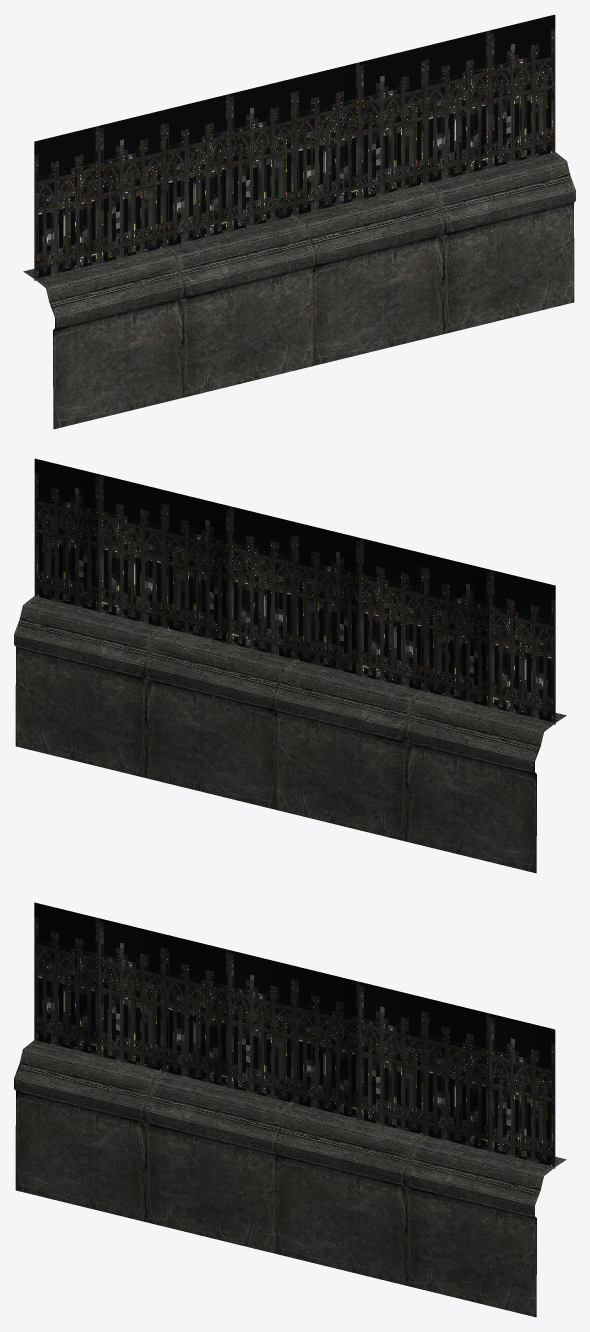
File: eso_gu11_GraveyardFence3-transformed.glb
3 views of the same model, one above another, from view 1: azimuth 30°, elevation 25°; view 2: azimuth 150°, elevation 25°; view 3: azimuth 330°, elevation 25° (orthographic).
Parts seen in each view (by area): view 1: default; view 2: default; view 3: default.
Part boxes in pixels (box(x1,y1,x2,y2)): default: box(23, 14, 575, 429); default: box(14, 458, 566, 873); default: box(14, 902, 566, 1317).
Size of the model in its own units: 10.24 by 5.15 by 1.39.
Materials: 1 (1 with a texture image).
